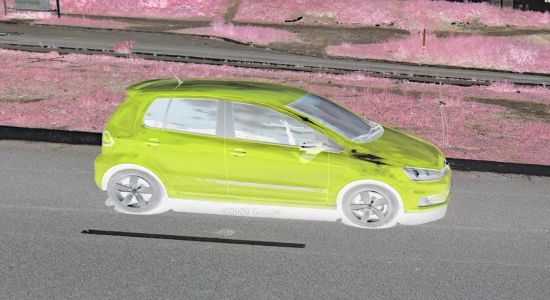car: (89, 62, 457, 250)
